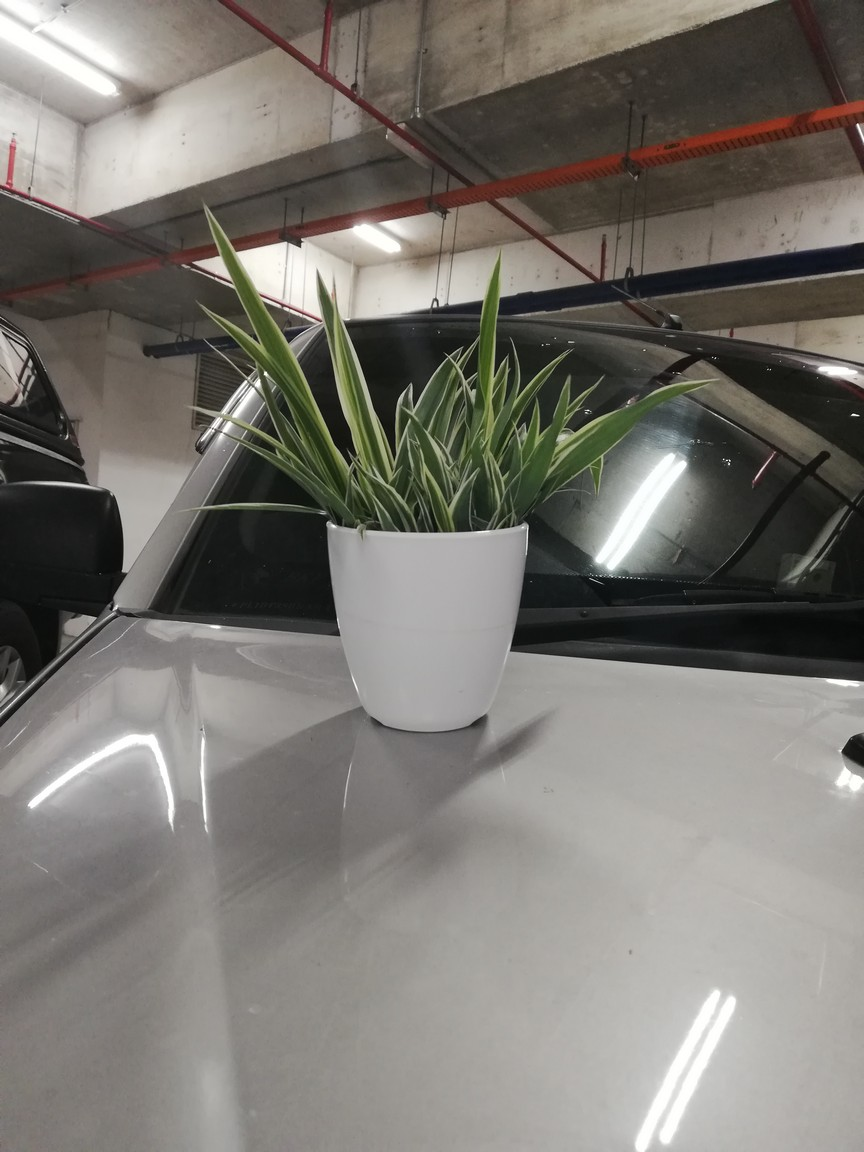daun: (605, 376, 723, 441), (201, 196, 262, 304), (479, 244, 502, 364), (172, 502, 317, 515), (366, 487, 399, 540), (195, 297, 241, 335), (188, 401, 259, 425), (201, 423, 259, 451), (450, 466, 481, 514), (314, 264, 332, 346), (573, 373, 607, 415), (347, 450, 374, 484), (542, 347, 577, 373), (203, 337, 233, 367), (461, 333, 484, 366), (396, 379, 414, 421), (510, 335, 523, 391), (554, 372, 572, 411), (493, 352, 510, 390), (591, 461, 607, 497), (529, 394, 541, 439), (445, 343, 465, 363), (388, 463, 403, 487), (516, 420, 528, 439)
